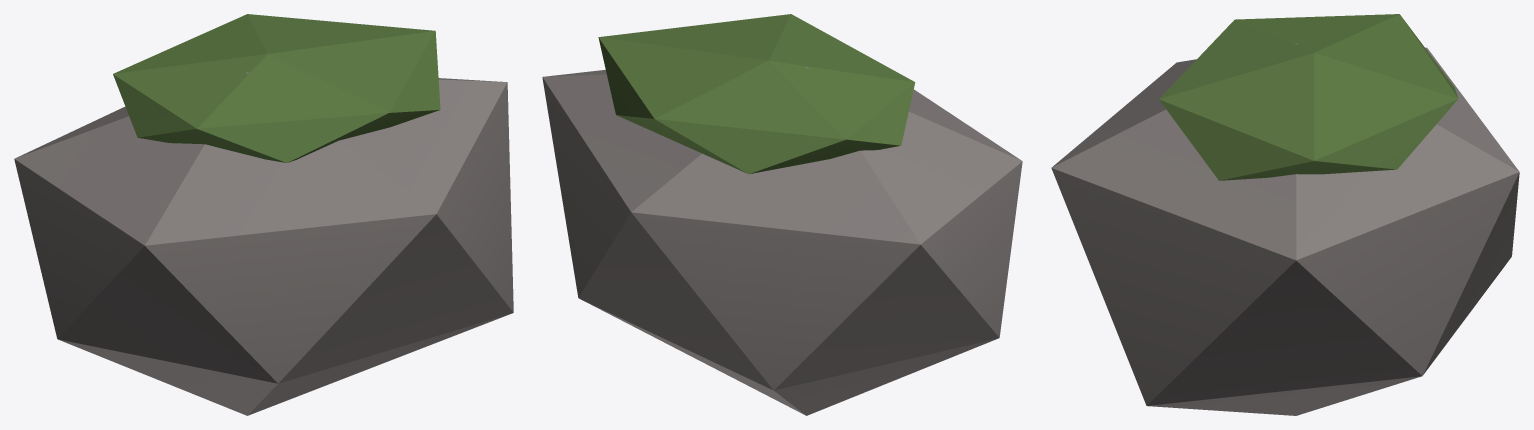
The model's file is rock_0.glb.
3 renders of one model, left to right at view 1: azimuth 30°, elevation 25°; view 2: azimuth 150°, elevation 25°; view 3: azimuth 270°, elevation 25°, orthographic. The views are drawn at different scales.
Parts seen in each view (by area): view 1: Body; view 2: Body; view 3: Body.
Part boxes in pixels (x1,y1,x2,y2): Body: (14,14,513,415); Body: (542,14,1022,415); Body: (1051,14,1519,415).
Bounding box in the file's own units: 1.56 × 1.16 × 1.3.
